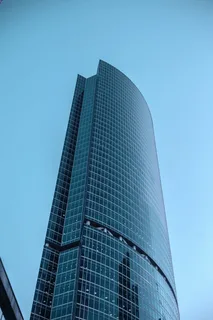high_rise_building: (57, 56, 175, 317)
